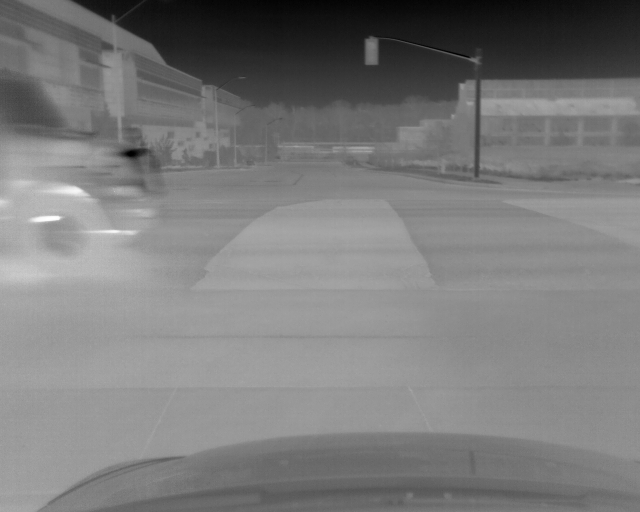car: (1, 70, 168, 264)
